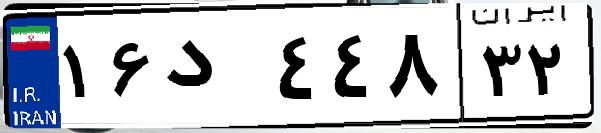1: (57, 26, 110, 100)
2: (525, 38, 570, 115)
3: (475, 38, 525, 113)
4: (270, 28, 330, 110), (330, 28, 385, 110)
6: (110, 28, 158, 98)
8: (385, 28, 445, 110)
د: (158, 20, 270, 120)
